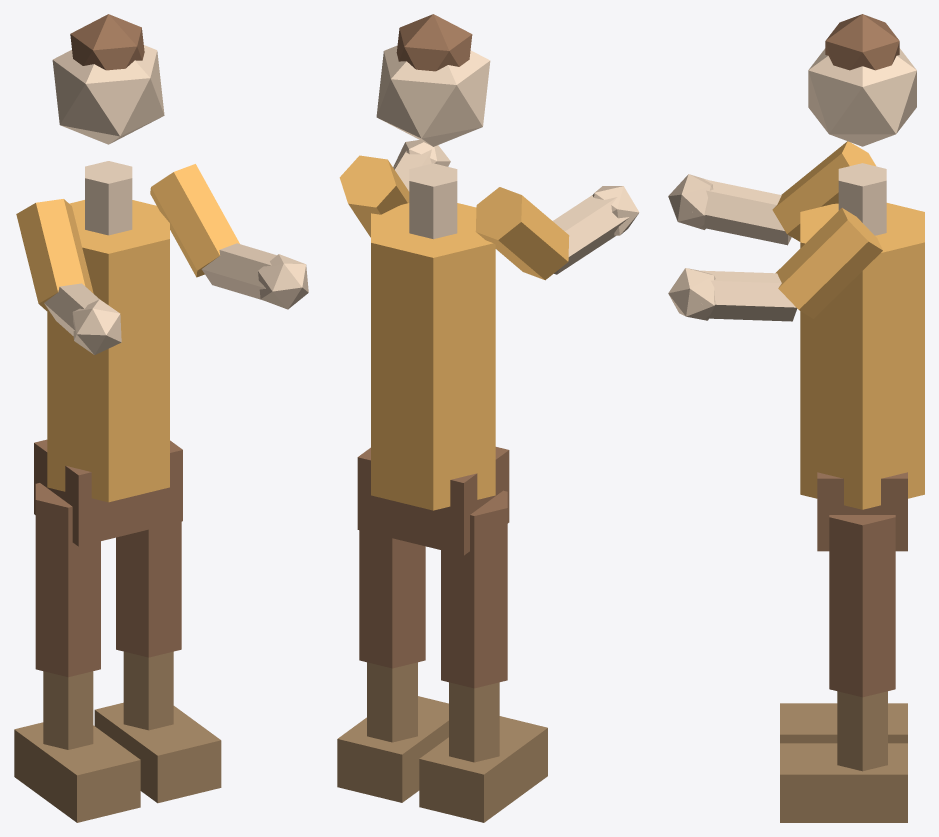
File: pose_dodge_roll_00.glb
3 views of the same model, side by side, from view 1: azimuth 30°, elevation 25°; view 2: azimuth 150°, elevation 25°; view 3: azimuth 270°, elevation 25° (orthographic).
Visible parts, largest first — view 1: pose; view 2: pose; view 3: pose.
Boxes of the visible parts, box(x1,y1,x2,y2) form: pose: box(14, 14, 308, 822); pose: box(337, 14, 639, 822); pose: box(668, 14, 924, 822).
Size of the model in its own units: 0.5074 by 1.6 by 0.4819.
